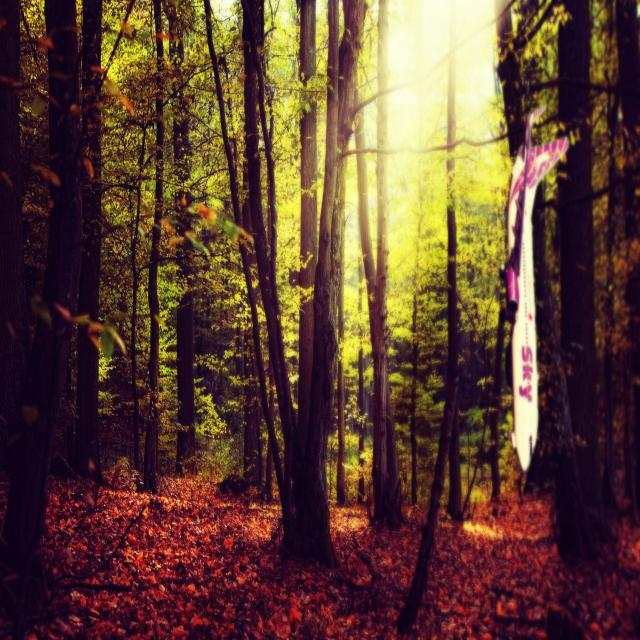airplane: (499, 104, 570, 473)
